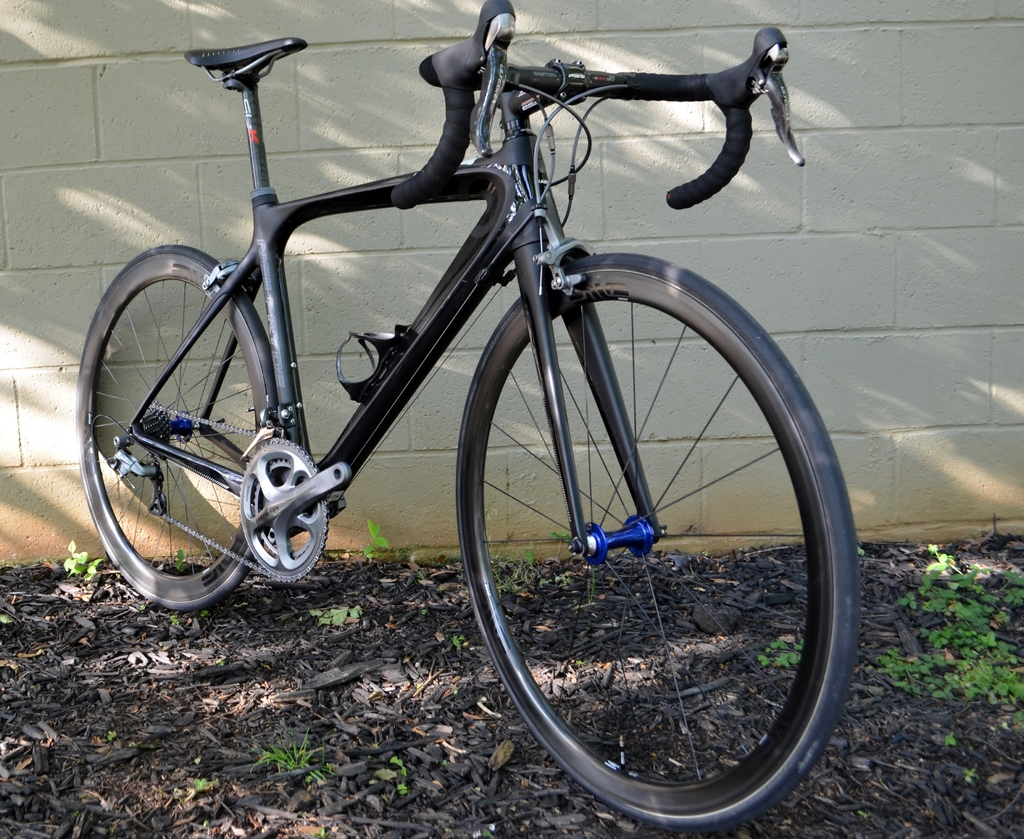Bike_toward: (157, 62, 895, 812)
